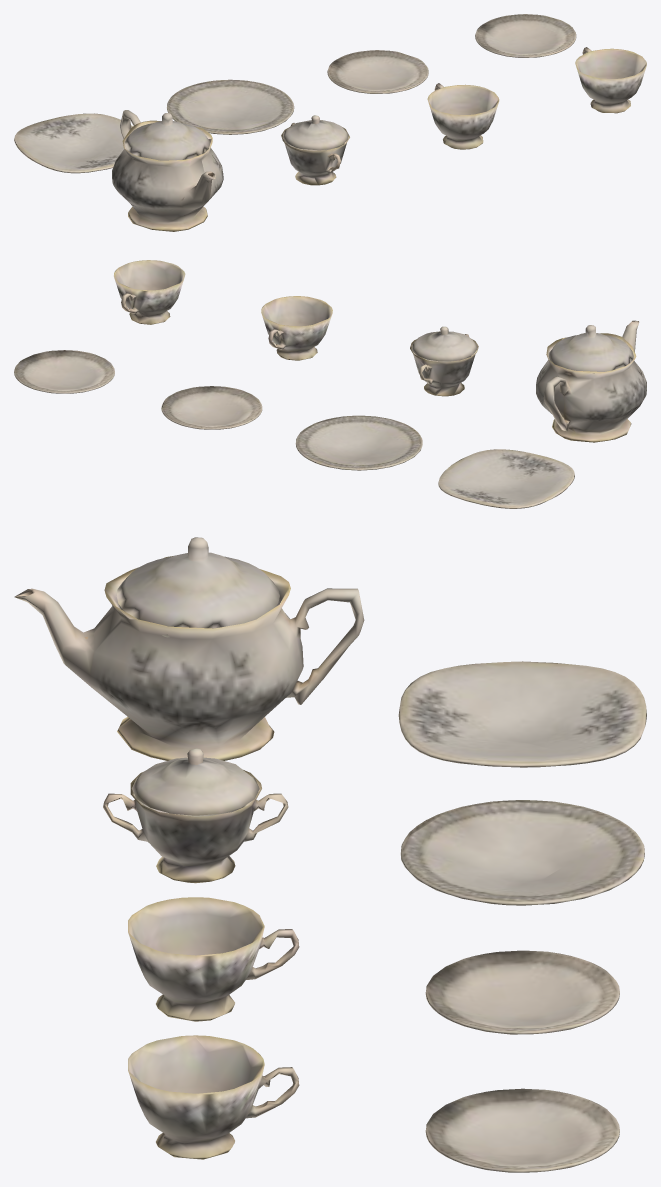
Rendered from tea_set_01.glb.
3 renders of one model, top to bottom at view 1: azimuth 30°, elevation 25°; view 2: azimuth 150°, elevation 25°; view 3: azimuth 270°, elevation 25°, orthographic. The views are drawn at different scales.
Visible parts, largest first — view 1: tea_set_01_teapot_01, tea_set_01_plate_large_circular_03, tea_set_01_plate_large_square_01, tea_set_01_saucer_circular_03, tea_set_01_saucer_circular_04, tea_set_01_cup_small_01, tea_set_01_cup_small_02, tea_set_01_teapot_01_lid, tea_set_01_sugar_cup_01, tea_set_01_sugar_cup_01_lid; view 2: tea_set_01_teapot_01, tea_set_01_plate_large_square_01, tea_set_01_plate_large_circular_03, tea_set_01_saucer_circular_04, tea_set_01_saucer_circular_03, tea_set_01_cup_small_01, tea_set_01_cup_small_02, tea_set_01_teapot_01_lid, tea_set_01_sugar_cup_01, tea_set_01_sugar_cup_01_lid; view 3: tea_set_01_teapot_01, tea_set_01_plate_large_square_01, tea_set_01_plate_large_circular_03, tea_set_01_cup_small_01, tea_set_01_cup_small_02, tea_set_01_saucer_circular_04, tea_set_01_saucer_circular_03, tea_set_01_teapot_01_lid, tea_set_01_sugar_cup_01, tea_set_01_sugar_cup_01_lid.
Part boxes in pixels (x1,y1,x2,y2): tea_set_01_teapot_01: (112,110,223,231); tea_set_01_plate_large_circular_03: (166,79,294,134); tea_set_01_plate_large_square_01: (14,113,132,173); tea_set_01_saucer_circular_03: (475,14,576,57); tea_set_01_saucer_circular_04: (327,50,428,93); tea_set_01_cup_small_01: (427,83,499,149); tea_set_01_cup_small_02: (575,47,646,113); tea_set_01_teapot_01_lid: (125,113,209,160); tea_set_01_sugar_cup_01: (281,123,349,185); tea_set_01_sugar_cup_01_lid: (282,115,348,150); tea_set_01_teapot_01: (536,320,646,442); tea_set_01_plate_large_square_01: (438,449,574,508); tea_set_01_plate_large_circular_03: (295,415,422,470); tea_set_01_saucer_circular_04: (161,386,262,429); tea_set_01_saucer_circular_03: (14,350,114,393); tea_set_01_cup_small_01: (261,296,332,360); tea_set_01_cup_small_02: (114,260,185,324); tea_set_01_teapot_01_lid: (548,325,633,373); tea_set_01_sugar_cup_01: (410,334,478,396); tea_set_01_sugar_cup_01_lid: (411,326,477,361); tea_set_01_teapot_01: (14,556,364,760); tea_set_01_plate_large_square_01: (398,661,646,767); tea_set_01_plate_large_circular_03: (400,800,644,905); tea_set_01_cup_small_01: (128,897,299,1021); tea_set_01_cup_small_02: (128,1035,299,1159); tea_set_01_saucer_circular_04: (425,950,619,1034); tea_set_01_saucer_circular_03: (425,1088,619,1172); tea_set_01_teapot_01_lid: (116,537,279,628); tea_set_01_sugar_cup_01: (103,770,288,883); tea_set_01_sugar_cup_01_lid: (131,748,259,815).
Size of the model in its own units: 0.9179 by 0.165 by 0.4838.
1 material, 1 textured.
